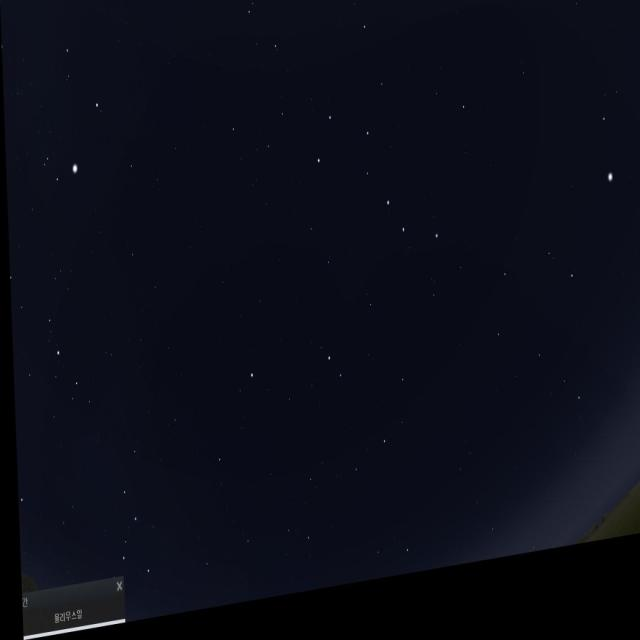cassiopeia: (96, 435, 166, 609)
ursa_major: (309, 102, 441, 300)
